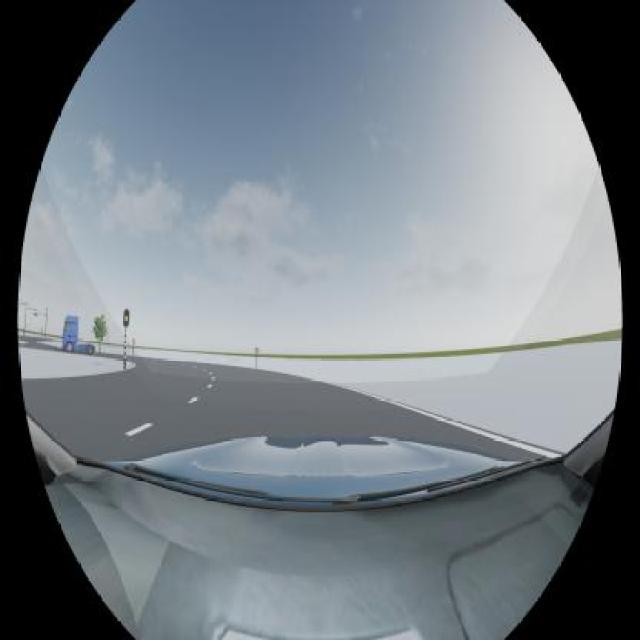forb_speed_over_80: (255, 348, 259, 352)
